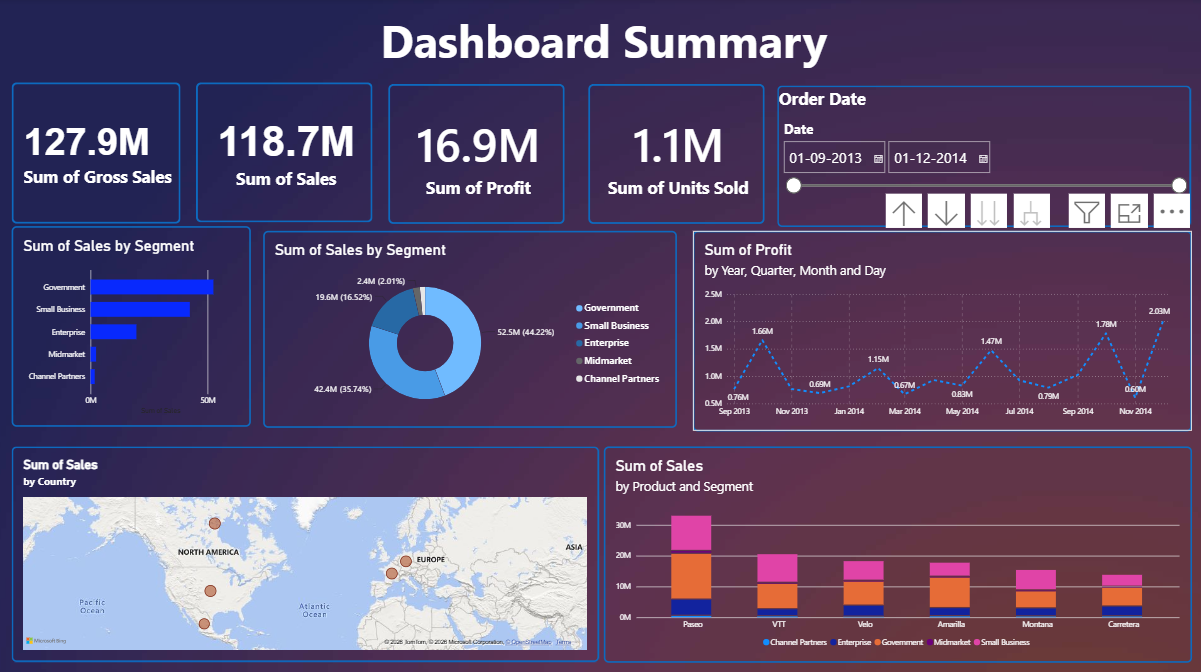

What the dashboard file says about the page in this screenshot:
{"tool":"powerbi","page":{"name":"Page 1","canvas":[1920,1080],"ordinal":0},"visuals":[{"type":"cardVisual","fields":{"Data":["Sum(financials.Gross Sales)"]},"box":[25,133.3,269.4,225],"z":0},{"type":"textbox","box":[124.4,17.4,1686.3,141.8],"z":1000},{"type":"cardVisual","fields":{"Data":["Sum(financials. Sales)"]},"box":[319.4,133.3,281,223.8],"z":2000},{"type":"cardVisual","fields":{"Data":["Sum(financials.Profit)"]},"box":[625,136.1,281,223.8],"z":3000},{"type":"cardVisual","fields":{"Data":["Sum(financials.Units Sold)"]},"box":[941.7,136.1,281,223.8],"z":4000},{"type":"slicer","title":"Order Date","fields":{"Values":["financials.Date"]},"box":[1244.4,138.9,658.3,225],"z":5000},{"type":"clusteredBarChart","title":"Sum of  Sales by Segment","fields":{"Category":["financials.Segment"],"Y":["Sum(financials. Sales)"]},"box":[25,363.9,380.6,319.4],"z":6000},{"type":"donutChart","fields":{"Category":["financials.Segment"],"Y":["Sum(financials. Sales)"]},"box":[425,369.4,658.3,313.9],"z":7000},{"type":"lineChart","fields":{"Category":["financials.Date.Variation.Date Hierarchy.Year","financials.Date.Variation.Date Hierarchy.Quarter","financials.Date.Variation.Date Hierarchy.Month","financials.Date.Variation.Date Hierarchy.Day"],"Y":["Sum(financials.Profit)"]},"box":[1108.3,369.4,794.4,319.4],"z":7001},{"type":"columnChart","fields":{"Category":["financials.Product"],"Series":["financials.Segment"],"Y":["Sum(financials. Sales)"]},"box":[966.7,713.9,936.1,344.4],"z":7002},{"type":"map","fields":{"Category":["financials.Country"],"Size":["Sum(financials.Sales)"]},"box":[24.9,713.8,935.2,343.2],"z":7003}]}

Visuals, with their boxes in screenshot pixels (x1, y1, x2, y2), scaled from the page's 1920x1080 canvas onto the 1201x672 screenshot:
cardVisual - Sum(financials.Gross Sales): detection(16, 83, 184, 223)
textbox: detection(78, 11, 1133, 99)
cardVisual - Sum(financials. Sales): detection(200, 83, 376, 222)
cardVisual - Sum(financials.Profit): detection(391, 85, 567, 224)
cardVisual - Sum(financials.Units Sold): detection(589, 85, 765, 224)
"Order Date" slicer: detection(778, 86, 1190, 226)
"Sum of  Sales by Segment" clusteredBarChart: detection(16, 226, 254, 425)
donutChart - financials.Segment x Sum(financials. Sales): detection(266, 230, 678, 425)
lineChart - financials.Date.Variation.Date Hierarchy.Year x financials.Date.Variation.Date Hierarchy.Quarter: detection(693, 230, 1190, 429)
columnChart - financials.Product x financials.Segment: detection(605, 444, 1190, 658)
map - financials.Country x Sum(financials.Sales): detection(16, 444, 601, 658)
